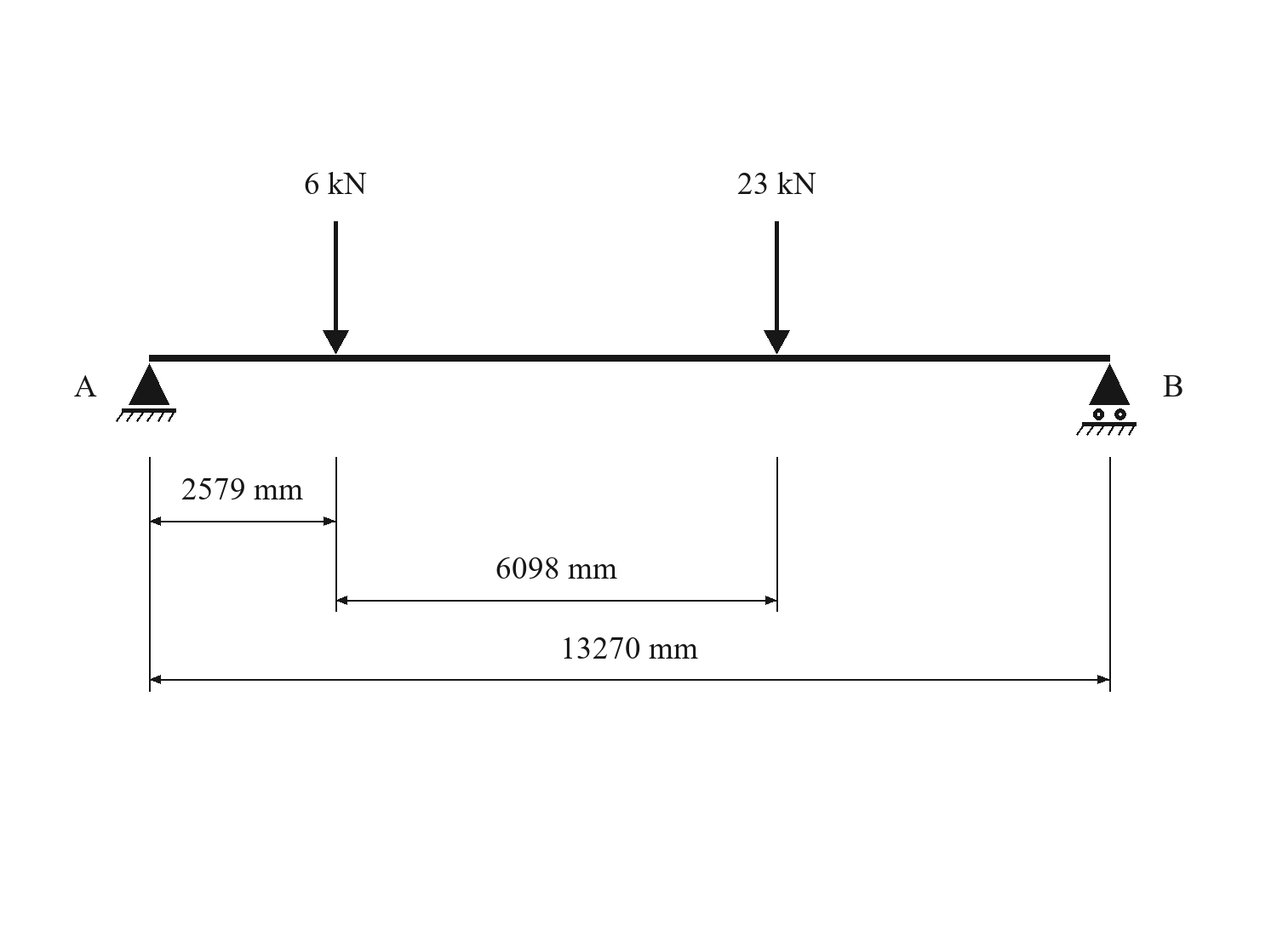pin_support: (116, 363, 176, 422)
point_load: (323, 221, 349, 354), (764, 221, 790, 354)
roller_support: (1076, 363, 1137, 436)
